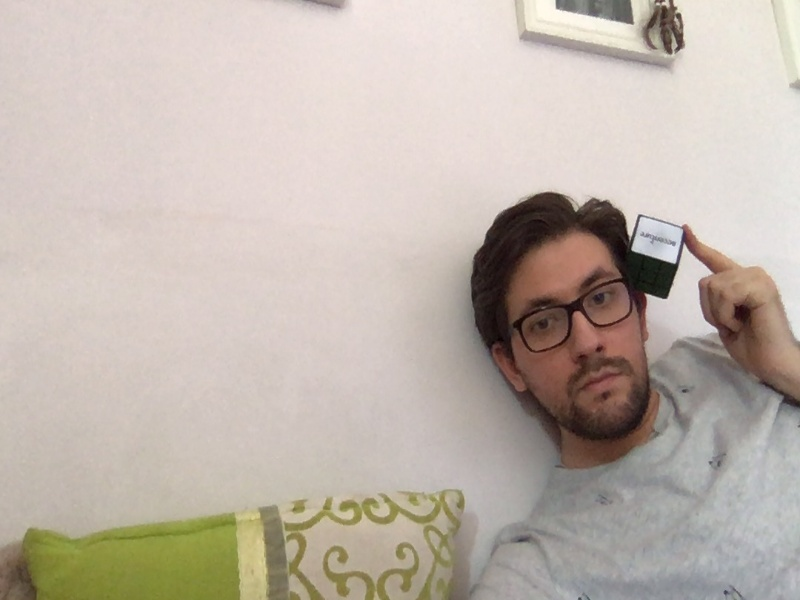rubik: (627, 215, 684, 300)
